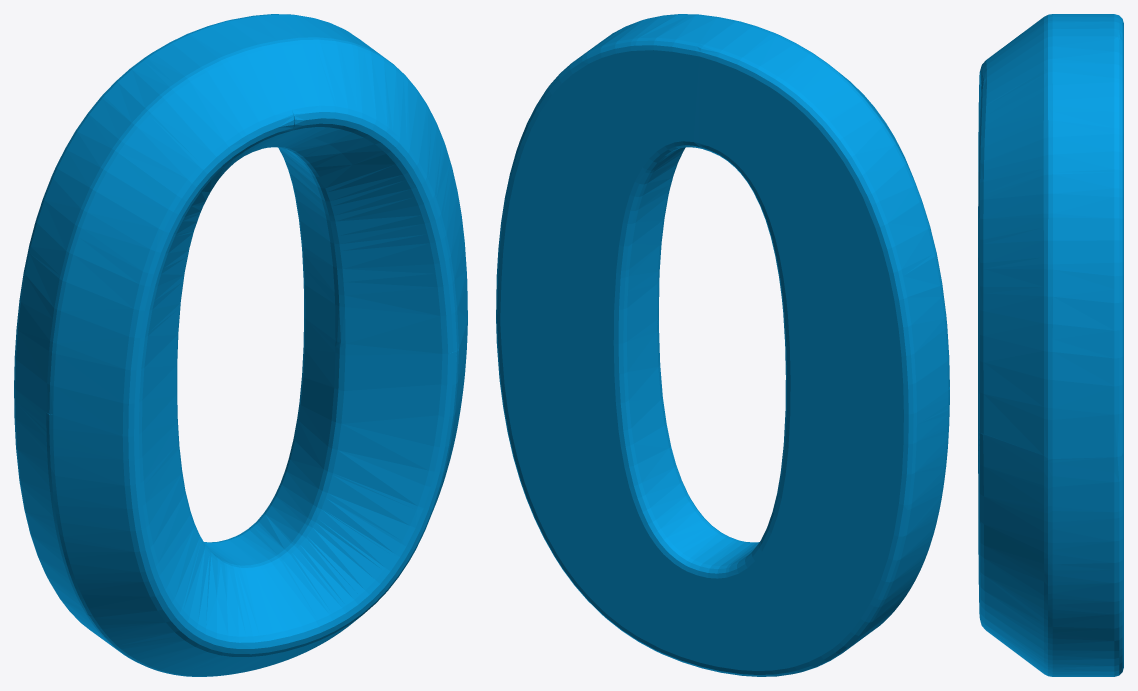
Rendered from zero.obj.
The picture shows the model from 3 angles, left to right: view 1: azimuth 30°, elevation 25°; view 2: azimuth 150°, elevation 25°; view 3: azimuth 270°, elevation 25°; orthographic projection.
Parts seen in each view (by area): view 1: Object.1; view 2: Object.1; view 3: Object.1.
Boxes of the visible parts, bbox=[...] form: Object.1: bbox=[14, 14, 467, 676]; Object.1: bbox=[496, 14, 949, 676]; Object.1: bbox=[978, 14, 1123, 676].
Bounding box in the file's own units: 17.72 × 25.14 × 5.37.
